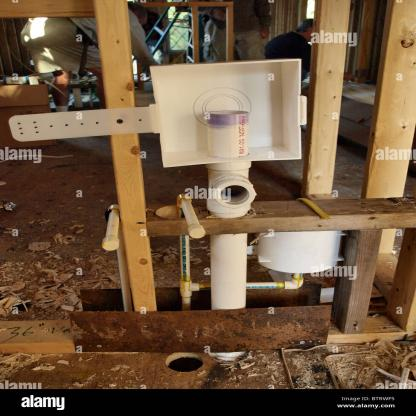PVC: (205, 108, 255, 311), (176, 193, 205, 310), (243, 273, 303, 290)
